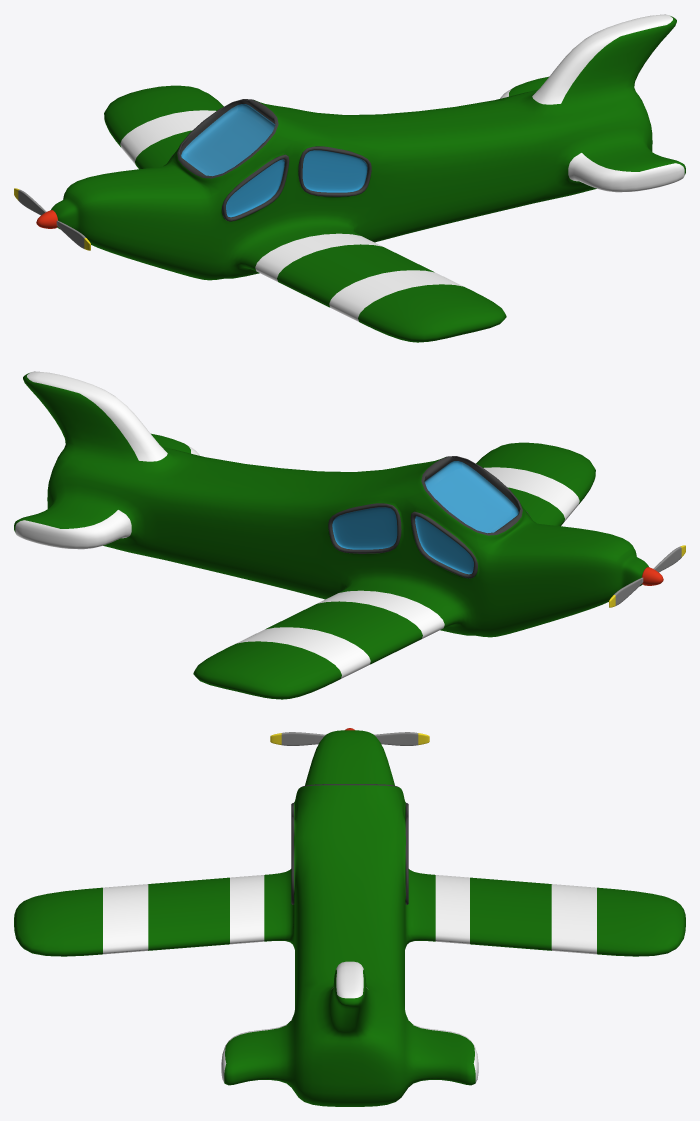
The model's file is styloo-planesty-002.glb.
3 views of the same model, one above another, from view 1: azimuth 30°, elevation 25°; view 2: azimuth 150°, elevation 25°; view 3: azimuth 270°, elevation 25° (orthographic). The views are drawn at different scales.
Parts seen in each view (by area): view 1: Cube.016, Cube.017; view 2: Cube.016, Cube.017; view 3: Cube.016, Cube.017.
Boxes of the visible parts, x1,y1,x2,y2 form: Cube.016: (51, 14, 685, 342); Cube.017: (14, 188, 90, 250); Cube.016: (14, 371, 648, 699); Cube.017: (609, 545, 685, 607); Cube.016: (14, 730, 685, 1106); Cube.017: (270, 728, 429, 745).
Size of the model in its own units: 8.29 by 1.82 by 7.29.
1 material, 1 textured.
